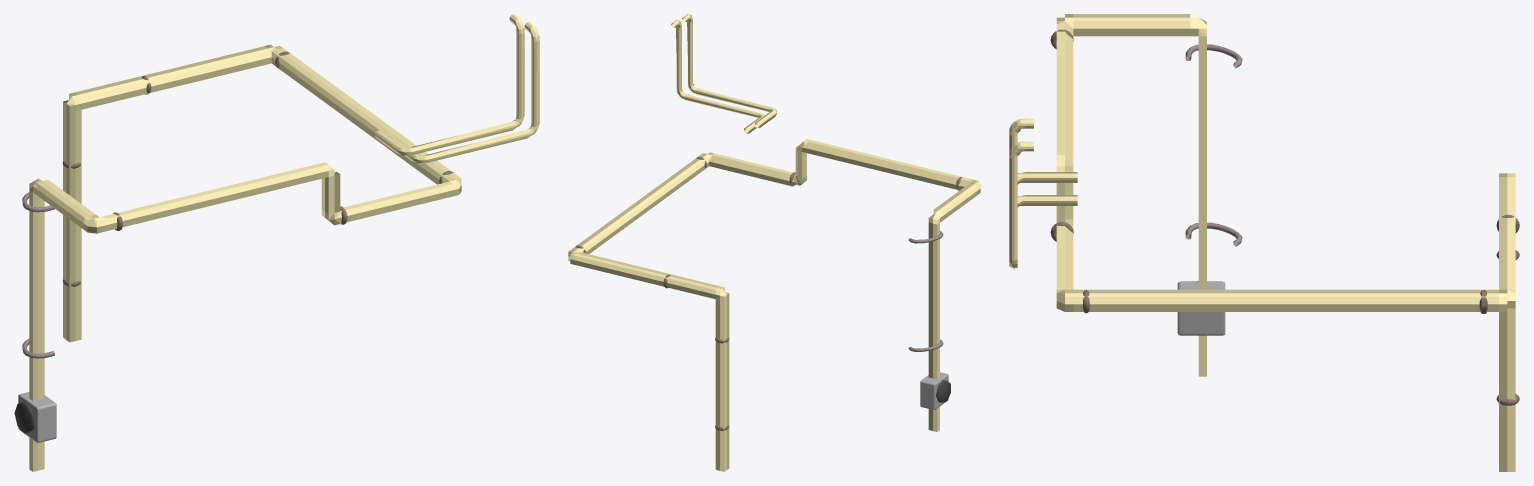
File: compressed_Pipes.glb
3 views of the same model, side by side, from view 1: azimuth 30°, elevation 25°; view 2: azimuth 150°, elevation 25°; view 3: azimuth 270°, elevation 25° (orthographic). The views are drawn at different scales.
Visible parts, largest first — view 1: Pipes, Plane.021, Plane.022, Cube; view 2: Pipes, Plane.021, Plane.022, Cube; view 3: Pipes, Plane.022, Cube, Plane.021.
Part boxes in pixels (x1=…): Pipes: x1=29, y1=44, x2=461, y2=471; Plane.021: x1=375, y1=14, x2=524, y2=155; Plane.022: x1=393, y1=22, x2=539, y2=163; Cube: x1=18, y1=392, x2=56, y2=442; Pipes: x1=568, y1=139, x2=980, y2=471; Plane.021: x1=682, y1=14, x2=776, y2=128; Plane.022: x1=671, y1=20, x2=764, y2=133; Cube: x1=920, y1=372, x2=948, y2=409; Pipes: x1=1056, y1=14, x2=1515, y2=471; Plane.022: x1=1009, y1=141, x2=1077, y2=269; Cube: x1=1177, y1=281, x2=1225, y2=335; Plane.021: x1=1009, y1=118, x2=1077, y2=184.
Bounding box in the file's own units: 10.96 × 9.69 × 9.05.
